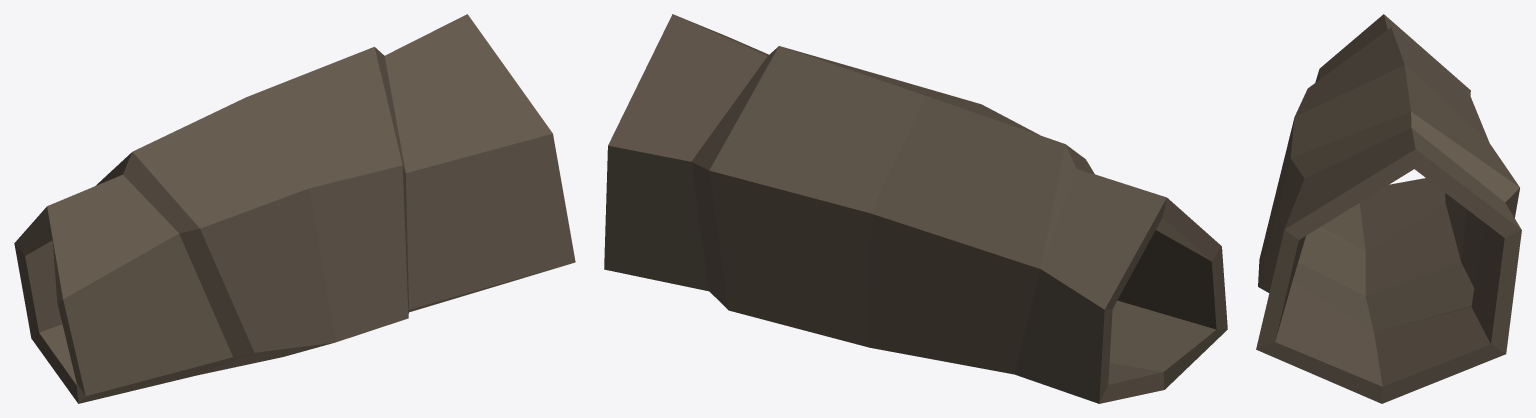
The model's file is Chr_ArmUpperRight_Female_11_Drop.fbx.
3 views of the same model, side by side, from view 1: azimuth 30°, elevation 25°; view 2: azimuth 150°, elevation 25°; view 3: azimuth 270°, elevation 25° (orthographic). The views are drawn at different scales.
Parts seen in each view (by area): view 1: Chr_ArmUpperRight_Female_11_Static; view 2: Chr_ArmUpperRight_Female_11_Static; view 3: Chr_ArmUpperRight_Female_11_Static.
Part boxes in pixels (bbox=[...]): Chr_ArmUpperRight_Female_11_Static: bbox=[14, 14, 575, 403]; Chr_ArmUpperRight_Female_11_Static: bbox=[604, 14, 1227, 403]; Chr_ArmUpperRight_Female_11_Static: bbox=[1256, 14, 1521, 403].
Size of the model in its own units: 24.45 by 13.23 by 12.1.
